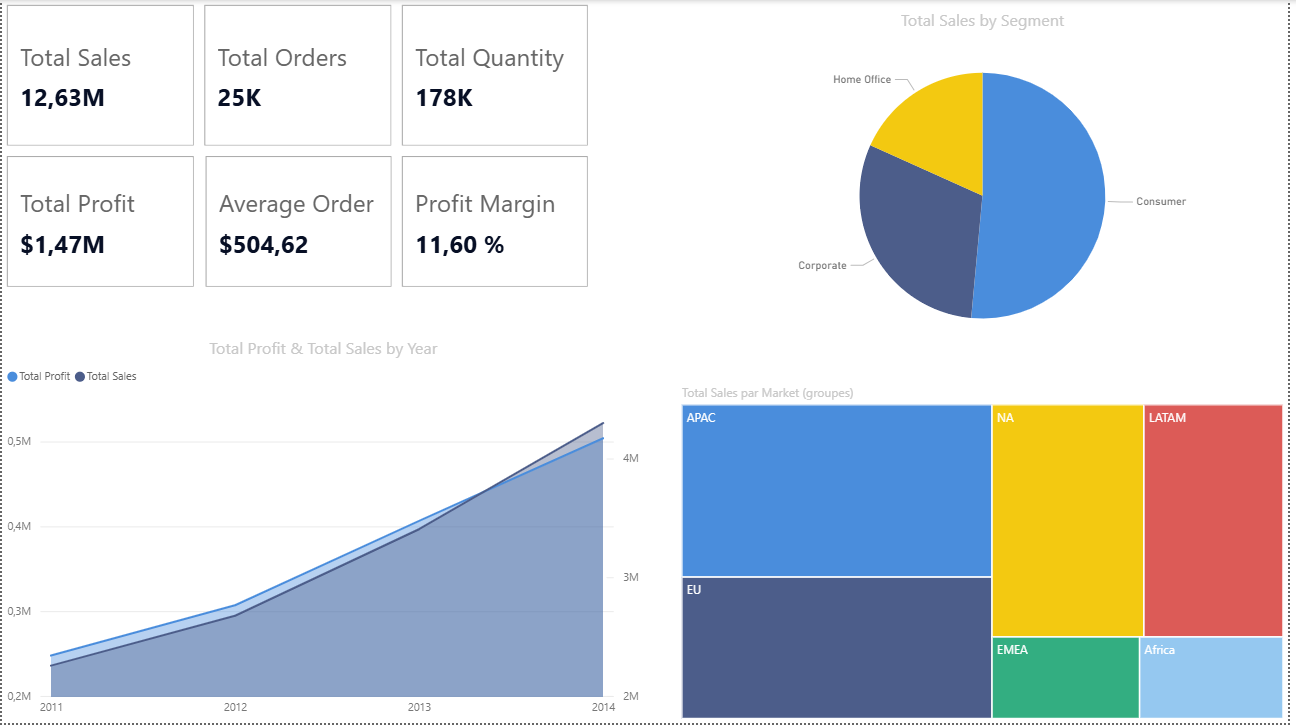

The dashboard page shown, as its layout file describes it:
{"tool":"powerbi","page":{"name":"Executive Overview","canvas":[1280,720],"ordinal":0},"visuals":[{"type":"cardVisual","fields":{"Data":["DAX Measures.Total Sales"]},"box":[0,0,196.5,150.5],"z":0},{"type":"cardVisual","fields":{"Data":["DAX Measures.Total Profit"]},"box":[0,150.5,196.5,140.6],"z":1000},{"type":"cardVisual","fields":{"Data":["DAX Measures.Total Orders"]},"box":[196.5,0,196.5,150.5],"z":2000},{"type":"cardVisual","fields":{"Data":["DAX Measures.Total Quantity"]},"box":[393.1,0,195.3,150.5],"z":3000},{"type":"cardVisual","fields":{"Data":["DAX Measures.Profit Margin %"]},"box":[393.1,150.5,195.3,140.6],"z":4000},{"type":"pieChart","title":"Total Sales by Segment","fields":{"Y":["DAX Measures.Total Sales"],"Series":["Customer_Dimension_Table.First(Segment)"]},"box":[671.7,8.7,608.3,350.8],"z":5000},{"type":"treemap","fields":{"Values":["DAX Measures.Total Sales"],"Group":["Geo_Dimension_Table.Market (groupes)"]},"box":[671.7,381.9,608.3,338.4],"z":6000},{"type":"areaChart","title":"Total Profit & Total Sales by Year","fields":{"Category":["Date_Dimension_Table.Year"],"Y":["DAX Measures.Total Profit"],"Y2":["DAX Measures.Total Sales"]},"box":[0,334.6,639.4,385.6],"z":7000},{"type":"cardVisual","title":"Average order value","fields":{"Data":["DAX Measures.Average Orders value"]},"box":[197.8,150.5,195.3,140.6],"z":8000}]}

Visuals, with their boxes in screenshot pixels (x1, y1, x2, y2), scaled from the page's 1280x720 canvas onto the 1296x727 screenshot:
cardVisual - DAX Measures.Total Sales: x1=0, y1=0, x2=199, y2=152
cardVisual - DAX Measures.Total Profit: x1=0, y1=152, x2=199, y2=294
cardVisual - DAX Measures.Total Orders: x1=199, y1=0, x2=398, y2=152
cardVisual - DAX Measures.Total Quantity: x1=398, y1=0, x2=596, y2=152
cardVisual - DAX Measures.Profit Margin %: x1=398, y1=152, x2=596, y2=294
"Total Sales by Segment" pieChart: x1=680, y1=9, x2=1295, y2=363
treemap - DAX Measures.Total Sales x Geo_Dimension_Table.Market (groupes): x1=680, y1=386, x2=1295, y2=726
"Total Profit & Total Sales by Year" areaChart: x1=0, y1=338, x2=647, y2=726
"Average order value" cardVisual: x1=200, y1=152, x2=398, y2=294
